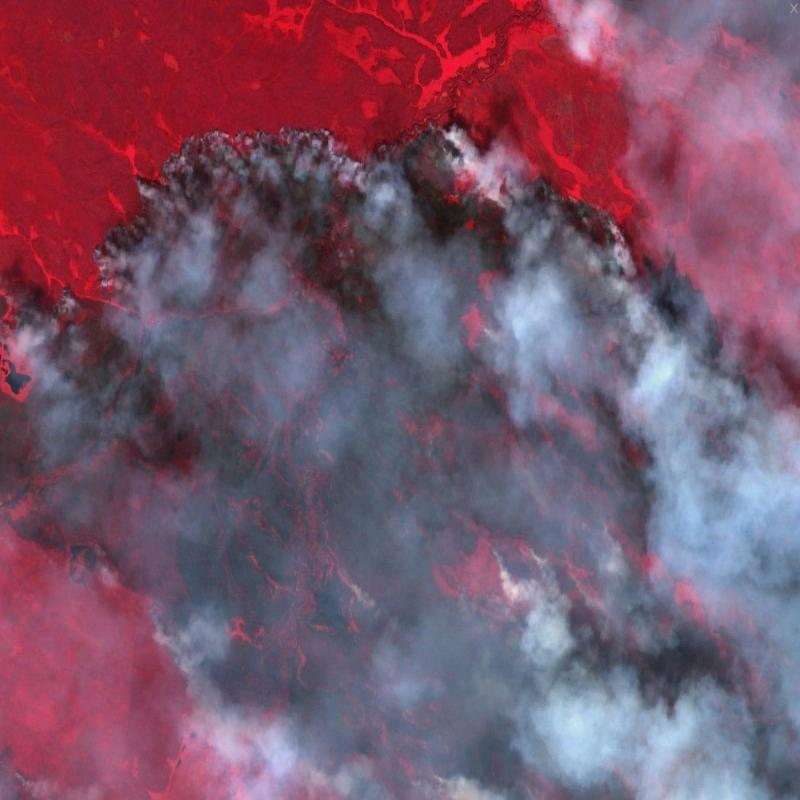fire: (0, 103, 800, 800)
